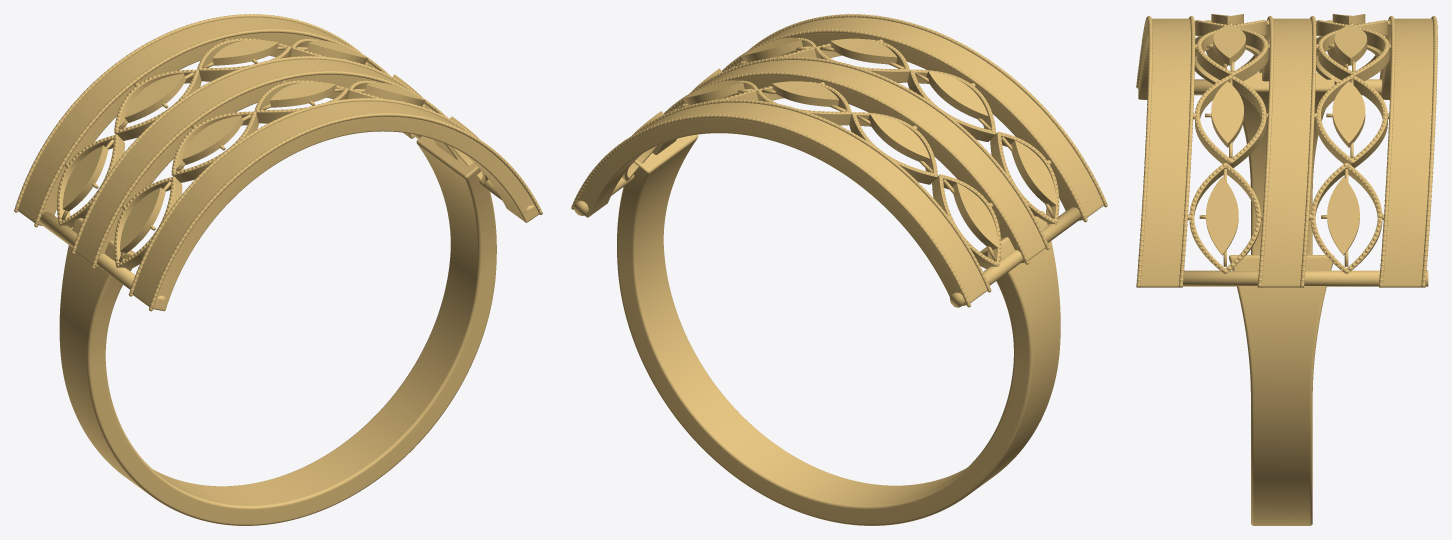
3 views of the same model, side by side, from view 1: azimuth 30°, elevation 25°; view 2: azimuth 150°, elevation 25°; view 3: azimuth 270°, elevation 25° (orthographic). The views are drawn at different scales.
Visible parts, largest first — view 1: Complete comfort shank | estimated reverse geometry, Crown polished ribbon 00, Crown polished ribbon 01, Crown polished ribbon 02, Milgrain | individual rounded beads, Ribbon fine rolled edge, Row1 leaf1 domed gold platelet, Row2 leaf1 domed gold platelet, Row1 leaf2 domed gold platelet, Row2 leaf2 domed gold platelet, Row1 leaf1 open marquise wall, Ribbon fine rolled edge.004 (+14 smaller); view 2: Complete comfort shank | estimated reverse geometry, Crown polished ribbon 02, Crown polished ribbon 01, Crown polished ribbon 00, Milgrain | individual rounded beads, Ribbon fine rolled edge.005, Row2 leaf1 domed gold platelet, Row1 leaf1 domed gold platelet, Row1 leaf2 domed gold platelet, Row2 leaf2 domed gold platelet, Crown transverse shoulder support, Ribbon fine rolled edge.003 (+14 smaller); view 3: Complete comfort shank | estimated reverse geometry, Crown polished ribbon 00, Crown polished ribbon 02, Crown polished ribbon 01, Milgrain | individual rounded beads, Crown transverse shoulder support.001, Row2 leaf5 domed gold platelet, Row1 leaf5 domed gold platelet, Row2 leaf4 open marquise wall, Row1 leaf4 open marquise wall, Row2 leaf4 domed gold platelet, Row1 leaf4 domed gold platelet (+17 smaller).
Boxes of the visible parts, <box> form: Complete comfort shank | estimated reverse geometry: <box>59,136,496,525</box>; Crown polished ribbon 00: <box>132,101,539,311</box>; Crown polished ribbon 01: <box>75,59,459,267</box>; Crown polished ribbon 02: <box>18,17,414,225</box>; Milgrain | individual rounded beads: <box>14,14,542,311</box>; Ribbon fine rolled edge: <box>149,113,542,308</box>; Row1 leaf1 domed gold platelet: <box>120,187,165,253</box>; Row2 leaf1 domed gold platelet: <box>62,145,108,211</box>; Row1 leaf2 domed gold platelet: <box>182,115,243,164</box>; Row2 leaf2 domed gold platelet: <box>124,73,185,122</box>; Row1 leaf1 open marquise wall: <box>114,177,182,269</box>; Ribbon fine rolled edge.004: <box>35,29,388,224</box>; Complete comfort shank | estimated reverse geometry: <box>617,134,1060,525</box>; Crown polished ribbon 02: <box>578,102,987,307</box>; Crown polished ribbon 01: <box>652,60,1045,263</box>; Crown polished ribbon 00: <box>732,17,1103,220</box>; Milgrain | individual rounded beads: <box>571,14,1107,307</box>; Ribbon fine rolled edge.005: <box>571,114,970,304</box>; Row2 leaf1 domed gold platelet: <box>952,183,998,249</box>; Row1 leaf1 domed gold platelet: <box>1010,140,1056,206</box>; Row1 leaf2 domed gold platelet: <box>926,71,988,120</box>; Row2 leaf2 domed gold platelet: <box>868,113,929,163</box>; Crown transverse shoulder support: <box>950,207,1081,307</box>; Ribbon fine rolled edge.003: <box>663,72,1028,262</box>; Complete comfort shank | estimated reverse geometry: <box>1229,72,1334,525</box>; Crown polished ribbon 00: <box>1138,18,1191,287</box>; Crown polished ribbon 02: <box>1380,18,1433,287</box>; Crown polished ribbon 01: <box>1261,18,1312,287</box>; Milgrain | individual rounded beads: <box>1136,16,1437,286</box>; Crown transverse shoulder support.001: <box>1183,270,1428,286</box>; Row2 leaf5 domed gold platelet: <box>1327,177,1359,255</box>; Row1 leaf5 domed gold platelet: <box>1206,177,1238,255</box>; Row2 leaf4 open marquise wall: <box>1316,75,1387,168</box>; Row1 leaf4 open marquise wall: <box>1195,75,1266,167</box>; Row2 leaf4 domed gold platelet: <box>1332,81,1365,147</box>; Row1 leaf4 domed gold platelet: <box>1211,81,1243,147</box>.
Bounding box in the file's own units: 0.0198 × 0.0203 × 0.0119.
